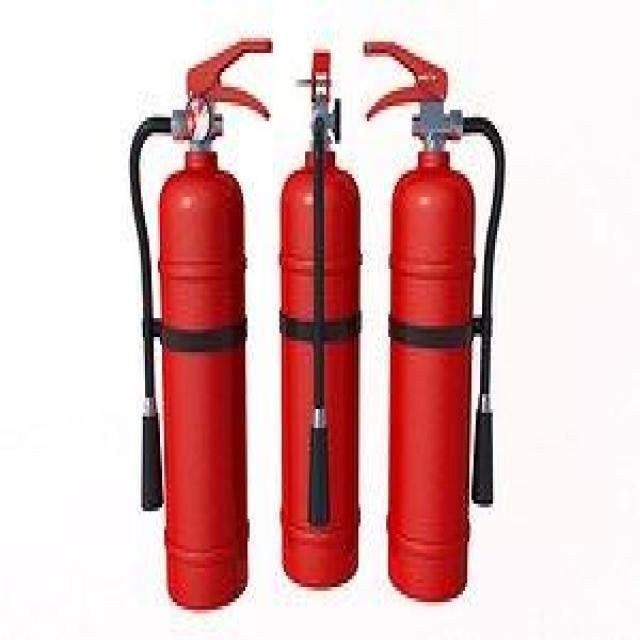fire_extinguisher: (358, 30, 510, 606), (124, 29, 274, 612), (272, 40, 364, 592)
